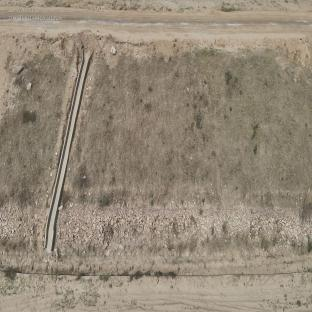rock_toe: (57, 208, 310, 252), (1, 205, 47, 246)
slope_drain: (44, 49, 93, 252)
toe_drain: (0, 259, 312, 279)
